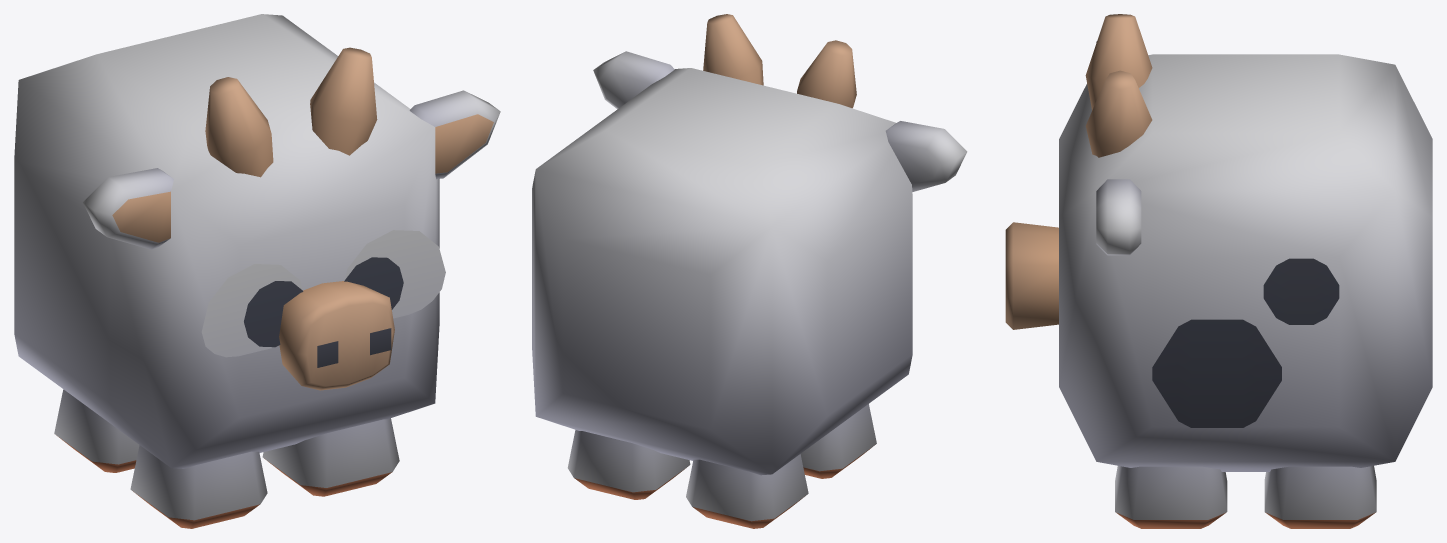
Rendered from cow.glb.
3 views of the same model, side by side, from view 1: azimuth 30°, elevation 25°; view 2: azimuth 150°, elevation 25°; view 3: azimuth 270°, elevation 25° (orthographic). The views are drawn at different scales.
Parts seen in each view (by area): view 1: body, Group, leg-front-right, leg-front-left, leg-back-right; view 2: body, leg-back-right, leg-back-left, leg-front-right; view 3: body, leg-back-left, leg-front-left, Group.
Boxes of the visible parts, <box> form: body: <box>14,14,500,468</box>; Group: <box>279,281,394,390</box>; leg-front-right: <box>130,445,267,528</box>; leg-front-left: <box>262,418,399,496</box>; leg-back-right: <box>54,389,139,472</box>; body: <box>532,14,967,475</box>; leg-back-right: <box>686,454,808,528</box>; leg-back-left: <box>567,430,690,499</box>; leg-front-right: <box>800,404,876,478</box>; body: <box>1059,14,1432,471</box>; leg-back-left: <box>1264,465,1376,528</box>; leg-front-left: <box>1115,466,1227,528</box>; Group: <box>1005,222,1058,329</box>.
Bounding box in the file's own units: 1.54 × 1.61 × 1.46.
